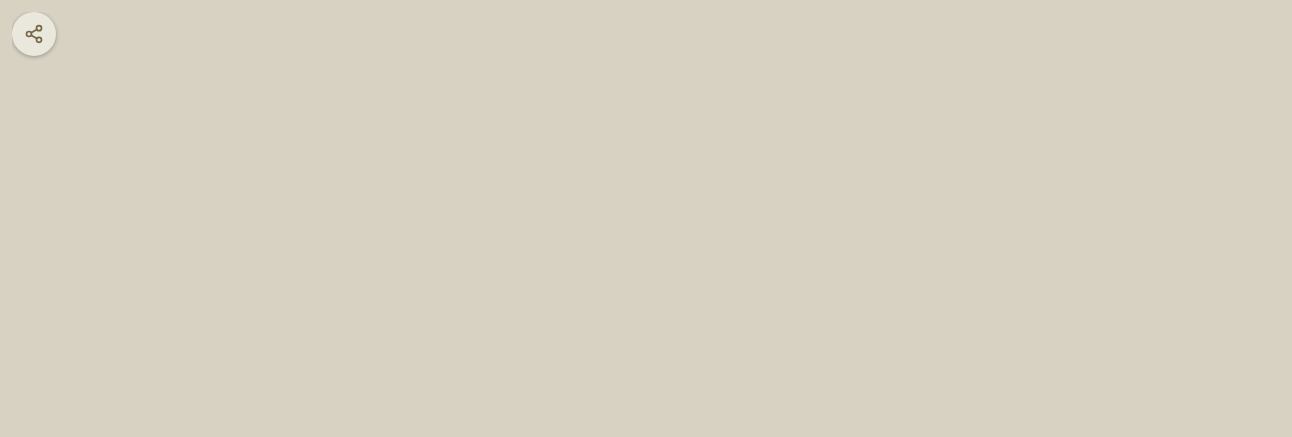
Scenario: ShareMenu › показывает группы, без обработчика PDF неактивен
What coordinates should you click on to do the following:
click the button named "Поделиться"
I would click on:
 (34, 34)
Its box is [12,12,56,56].
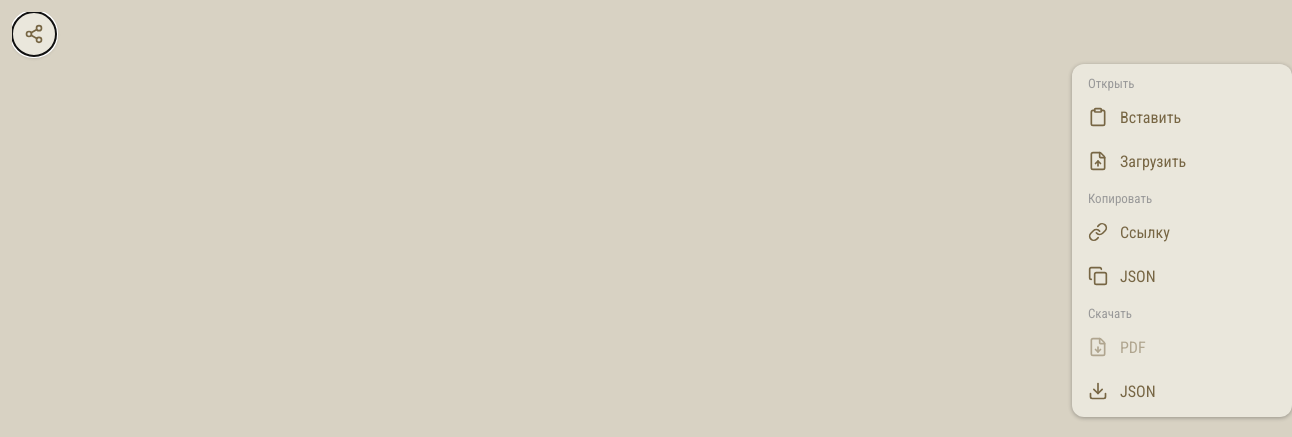
expect the button "PDF" is disabled: met, box [1076,325,1288,369]
